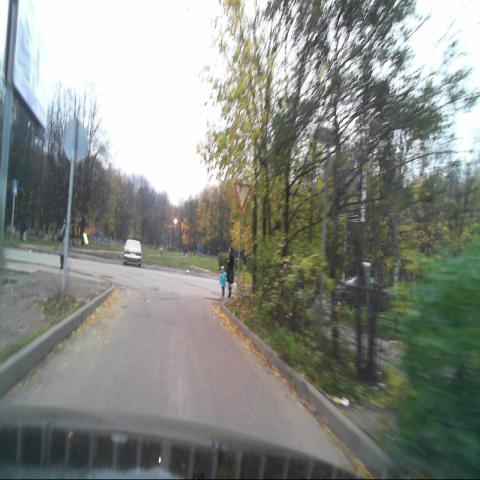2_4: (234, 182, 250, 211)
